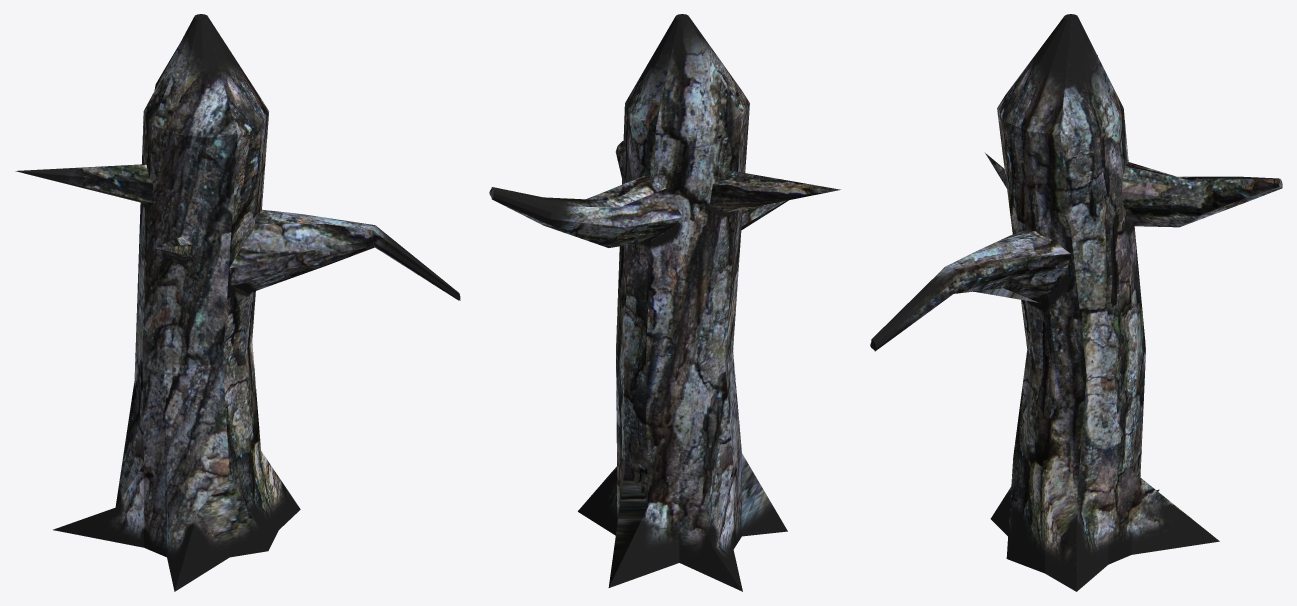
File: Tree 2.fbx
3 views of the same model, side by side, from view 1: azimuth 30°, elevation 25°; view 2: azimuth 150°, elevation 25°; view 3: azimuth 270°, elevation 25° (orthographic).
Visible parts, largest first — view 1: Cone.001; view 2: Cone.001; view 3: Cone.001.
Boxes of the visible parts, x1=… form: Cone.001: x1=15, y1=14, x2=460, y2=591; Cone.001: x1=489, y1=14, x2=840, y2=591; Cone.001: x1=870, y1=14, x2=1282, y2=591.
Bounding box in the file's own units: 737 × 1110 × 775.
